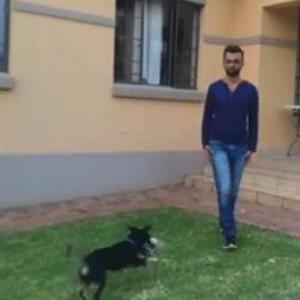follow: (194, 46, 256, 239)
